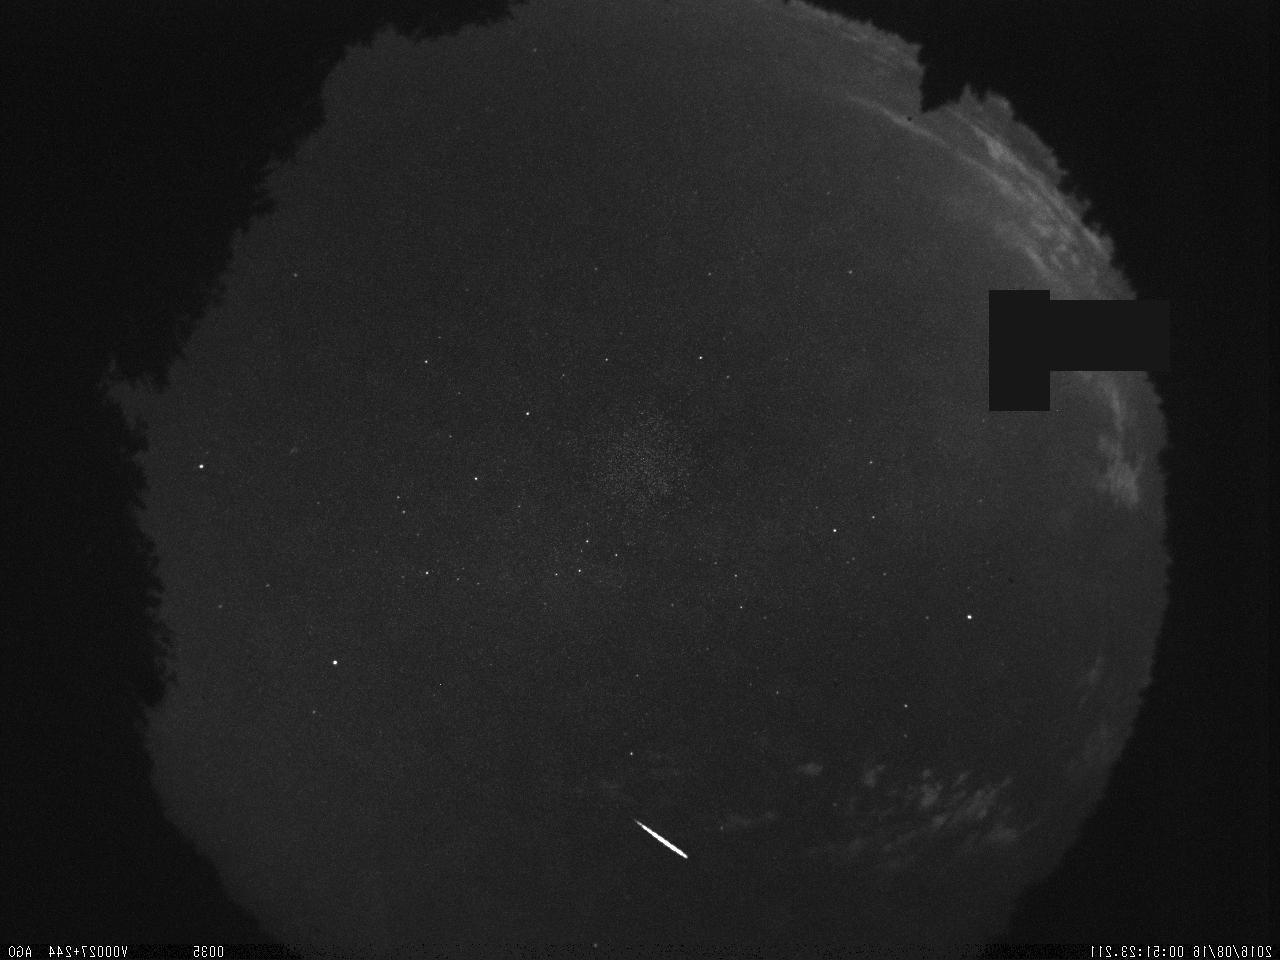meteor: (617, 811, 699, 862)
